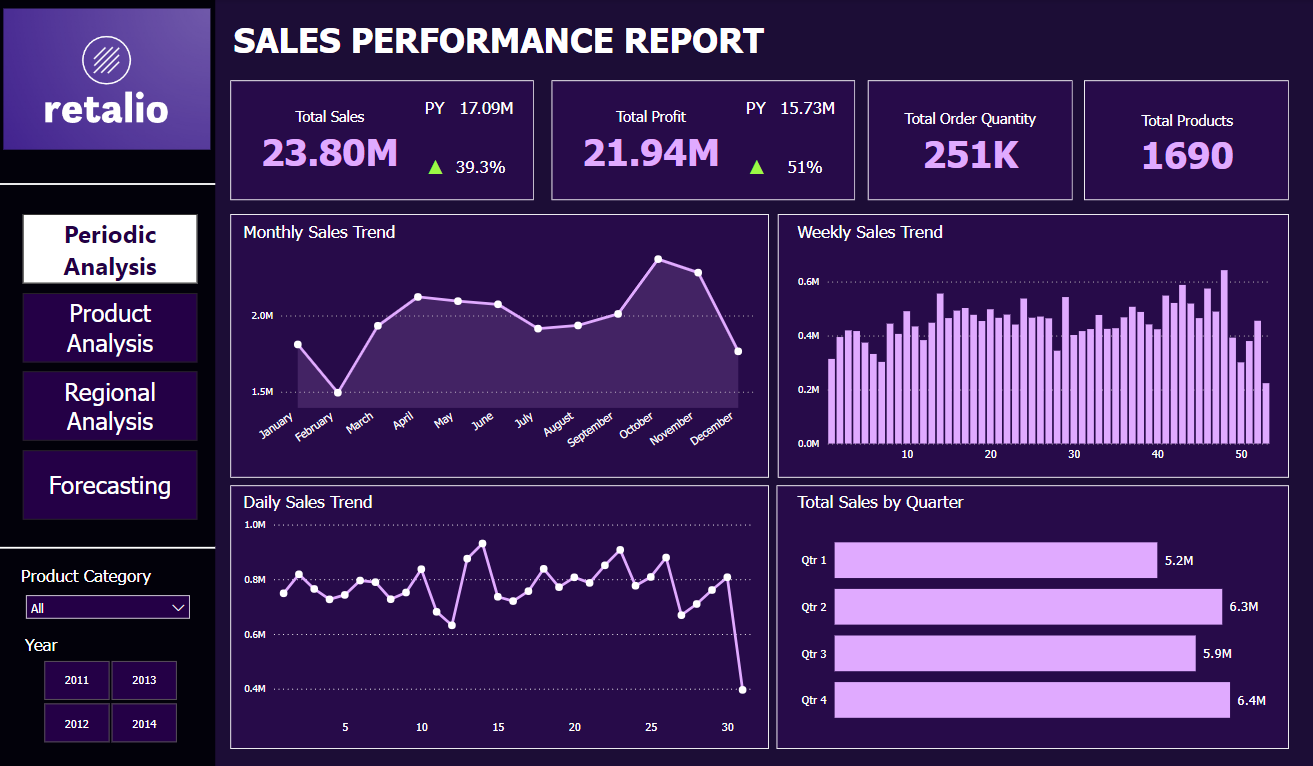

What the dashboard file says about the page in this screenshot:
{"tool":"powerbi","page":{"name":"Periodic Analysis","canvas":[1440,840],"ordinal":0},"visuals":[{"type":"shape","box":[850.4,531.8,560.6,288.5],"z":0},{"type":"shape","box":[252.9,531.8,589.3,288.5],"z":1000},{"type":"shape","box":[851.8,235.2,559.2,288.5],"z":2000},{"type":"shape","box":[252.9,235.2,589.3,288.5],"z":3000},{"type":"shape","box":[1186.7,88.9,224.2,131.3],"z":4000},{"type":"shape","box":[950.2,88.9,224.2,131.3],"z":5000},{"type":"shape","box":[252.9,88.9,332.2,131.3],"z":6000},{"type":"shape","box":[0,0,236.5,839.5],"z":7000},{"type":"textbox","box":[251.6,16.4,616.6,60.2],"z":8000},{"type":"card","title":"Total Sales","fields":{"Values":["Sales_Data.Total Sales"]},"box":[262.5,113.5,198.2,80.7],"z":9000},{"type":"card","title":"Total Order Quantity","fields":{"Values":["Sum(Sales_Data.Order Qty)"]},"box":[963.9,116.2,196.9,80.7],"z":10000},{"type":"card","title":"Total Products","fields":{"Values":["CountNonNull(Sales_Product.ProductKey)"]},"box":[1200.4,117.6,198.2,80.7],"z":11000},{"type":"card","fields":{"Values":["Sales_Data.Sales YoY%"]},"box":[481.3,168.2,91.6,34.2],"z":12000},{"type":"card","fields":{"Values":["Sales_Data.Sales_Icon"]},"box":[460.7,168.2,32.8,34.2],"z":13000},{"type":"card","fields":{"Values":["Sales_Data.Sales LY"]},"box":[493.6,103.9,79.3,34.2],"z":14000},{"type":"textbox","box":[460.7,102.5,39.6,32.8],"z":15000},{"type":"shape","box":[604.2,89,332.2,131.3],"z":16000},{"type":"card","title":"Total Profit","fields":{"Values":["Sales_Data.Total Profit"]},"box":[613.8,113.6,198.2,80.7],"z":17000},{"type":"card","fields":{"Values":["Sales_Data.Profit YoY%"]},"box":[842.2,168.2,79.3,34.2],"z":18000},{"type":"card","fields":{"Values":["Sales_Data.Profit_Icon"]},"box":[812.1,168.2,32.8,34.2],"z":19000},{"type":"card","fields":{"Values":["Sales_Data.Profit LY"]},"box":[844.8,104.1,79.3,34.2],"z":20000},{"type":"textbox","box":[812,102.7,39.6,32.8],"z":21000},{"type":"lineChart","title":"Monthly Sales Trend","fields":{"Y":["Sum(Sales_Data.Sales)"],"Category":["Date.Date.Variation.Date Hierarchy.Year","Date.Date.Variation.Date Hierarchy.Month"]},"box":[262.5,243.4,568.8,272.1],"z":22000},{"type":"columnChart","title":"Weekly Sales Trend","fields":{"Category":["Date.Week"],"Y":["Sales_Data.Total Sales"]},"box":[868.2,243.4,530.5,272.1],"z":23000},{"type":"lineChart","title":"Daily Sales Trend","fields":{"Category":["Date.Date.Variation.Date Hierarchy.Day"],"Y":["Sales_Data.Total Sales"]},"box":[262.5,538.7,566,274.8],"z":24000},{"type":"barChart","fields":{"Category":["Date.Date.Variation.Date Hierarchy.Quarter"],"Y":["Sales_Data.Total Sales"]},"box":[868.2,538.7,530.5,274.8],"z":25000},{"type":"pageNavigator","box":[26,235.2,191.4,336.3],"z":26000},{"type":"slicer","title":"Product Category","fields":{"Values":["Sales_Prod_Sub_Cat.Product Category"]},"box":[19.1,619.3,199.6,75.2],"z":27000},{"type":"slicer","title":"Year","fields":{"Values":["Date.Date.Variation.Date Hierarchy.Year"]},"box":[23.2,694.5,195.5,125.8],"z":28000},{"type":"shape","box":[0,590.6,236.5,19.1],"z":29000},{"type":"image","box":[0,0,236.5,175],"z":30000},{"type":"shape","box":[0,192.8,236.5,19.1],"z":31000}]}

Visuals, with their boxes in screenshot pixels (x1, y1, x2, y2), scaled from the page's 1440x840 canvas onto the 1313x766 screenshot:
shape: <bbox>775, 485, 1287, 748</bbox>
shape: <bbox>231, 485, 768, 748</bbox>
shape: <bbox>777, 214, 1287, 478</bbox>
shape: <bbox>231, 214, 768, 478</bbox>
shape: <bbox>1082, 81, 1286, 201</bbox>
shape: <bbox>866, 81, 1071, 201</bbox>
shape: <bbox>231, 81, 533, 201</bbox>
shape: <bbox>0, 0, 216, 765</bbox>
textbox: <bbox>229, 15, 792, 70</bbox>
"Total Sales" card: <bbox>239, 104, 420, 177</bbox>
"Total Order Quantity" card: <bbox>879, 106, 1058, 180</bbox>
"Total Products" card: <bbox>1095, 107, 1275, 181</bbox>
card - Sales_Data.Sales YoY%: <bbox>439, 153, 522, 185</bbox>
card - Sales_Data.Sales_Icon: <bbox>420, 153, 450, 185</bbox>
card - Sales_Data.Sales LY: <bbox>450, 95, 522, 126</bbox>
textbox: <bbox>420, 93, 456, 123</bbox>
shape: <bbox>551, 81, 854, 201</bbox>
"Total Profit" card: <bbox>560, 104, 740, 177</bbox>
card - Sales_Data.Profit YoY%: <bbox>768, 153, 840, 185</bbox>
card - Sales_Data.Profit_Icon: <bbox>740, 153, 770, 185</bbox>
card - Sales_Data.Profit LY: <bbox>770, 95, 843, 126</bbox>
textbox: <bbox>740, 94, 776, 124</bbox>
"Monthly Sales Trend" lineChart: <bbox>239, 222, 758, 470</bbox>
"Weekly Sales Trend" columnChart: <bbox>792, 222, 1275, 470</bbox>
"Daily Sales Trend" lineChart: <bbox>239, 491, 755, 742</bbox>
barChart - Date.Date.Variation.Date Hierarchy.Quarter x Sales_Data.Total Sales: <bbox>792, 491, 1275, 742</bbox>
pageNavigator: <bbox>24, 214, 198, 521</bbox>
"Product Category" slicer: <bbox>17, 565, 199, 633</bbox>
"Year" slicer: <bbox>21, 633, 199, 748</bbox>
shape: <bbox>0, 539, 216, 556</bbox>
image: <bbox>0, 0, 216, 160</bbox>
shape: <bbox>0, 176, 216, 193</bbox>
